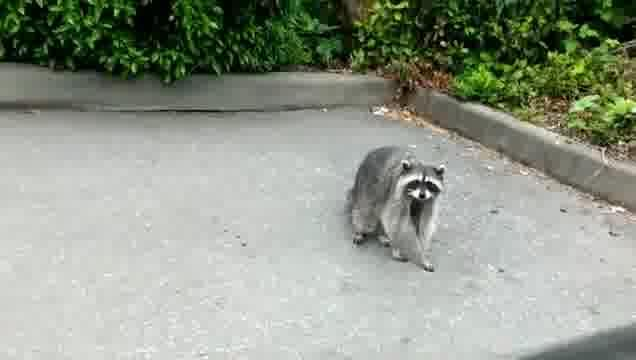raccoon: (347, 144, 447, 273)
